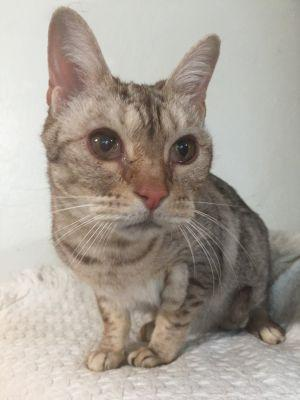bengal: (35, 1, 223, 250)
